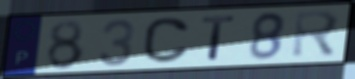3: (98, 18, 136, 67)
8: (43, 18, 89, 71), (247, 11, 287, 62)
C: (140, 16, 192, 65)
R: (290, 9, 343, 61)
T: (199, 14, 238, 62)
